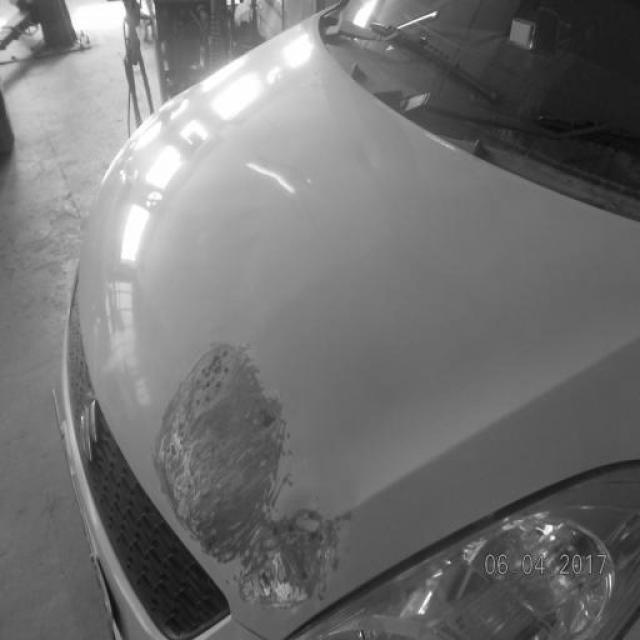scratch: (149, 343, 346, 622)
